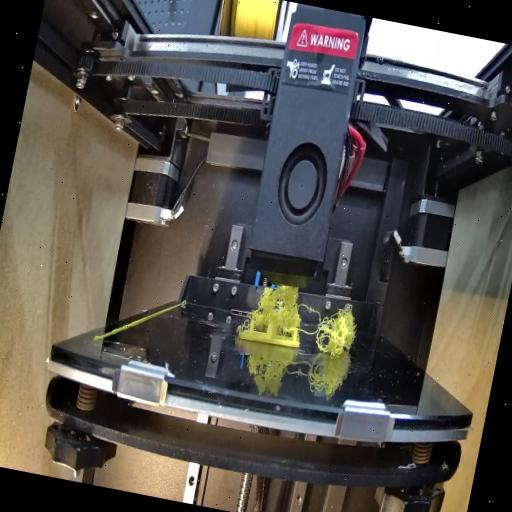spaghetti: (248, 272, 323, 341), (310, 300, 362, 362)
